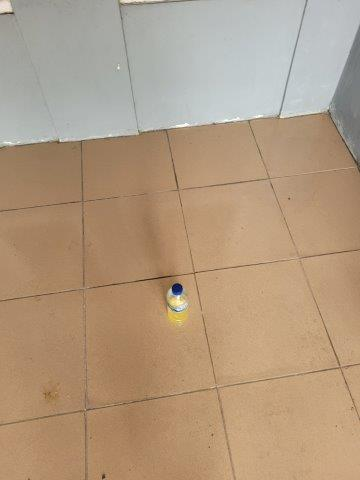botolplastik: (167, 283, 188, 325)
